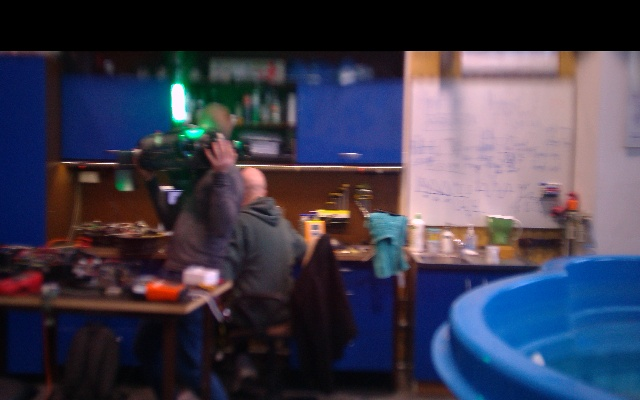green: (171, 82, 185, 127)
